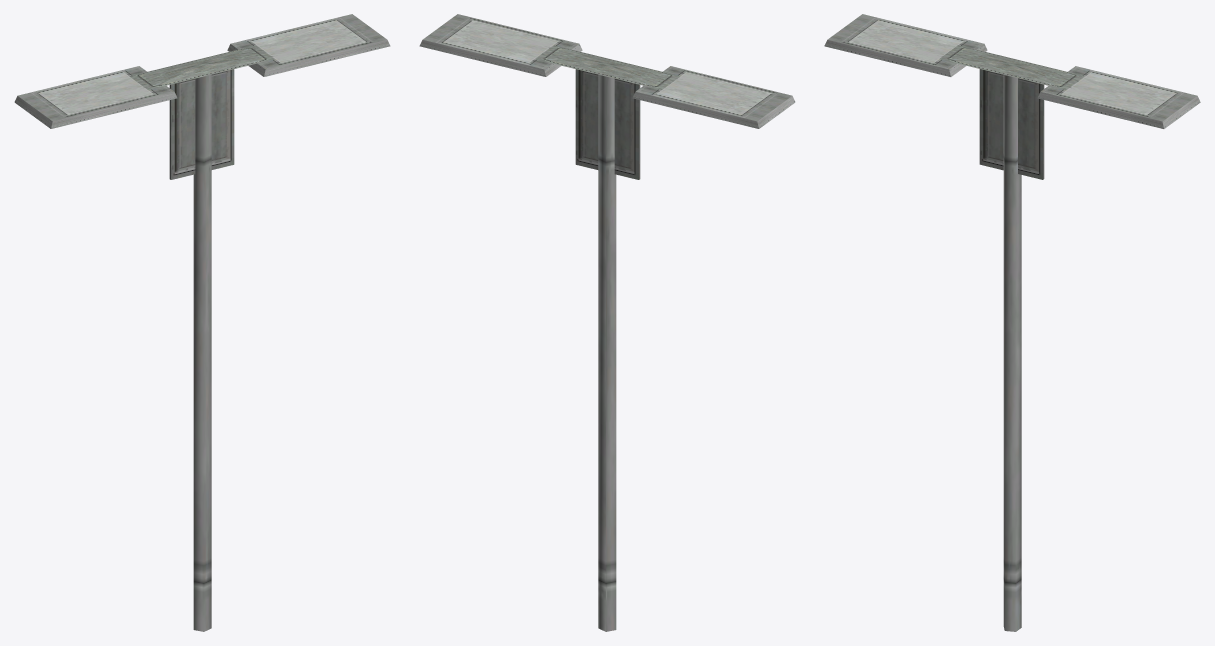
File: frn_all_streetlamp_m_s1_l1.fbx
The picture shows the model from 3 angles, left to right: view 1: azimuth 30°, elevation 25°; view 2: azimuth 150°, elevation 25°; view 3: azimuth 330°, elevation 25°; orthographic projection.
Parts seen in each view (by area): view 1: mesh_node; view 2: mesh_node; view 3: mesh_node.
Part boxes in pixels (x1,y1,x2,y2): mesh_node: [14, 14, 390, 631]; mesh_node: [419, 14, 795, 631]; mesh_node: [824, 14, 1200, 631].
Bounding box in the file's own units: 1.9 × 3.01 × 0.354.
2 materials, 2 textured.
